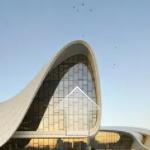缺口: (56, 86, 100, 135)
